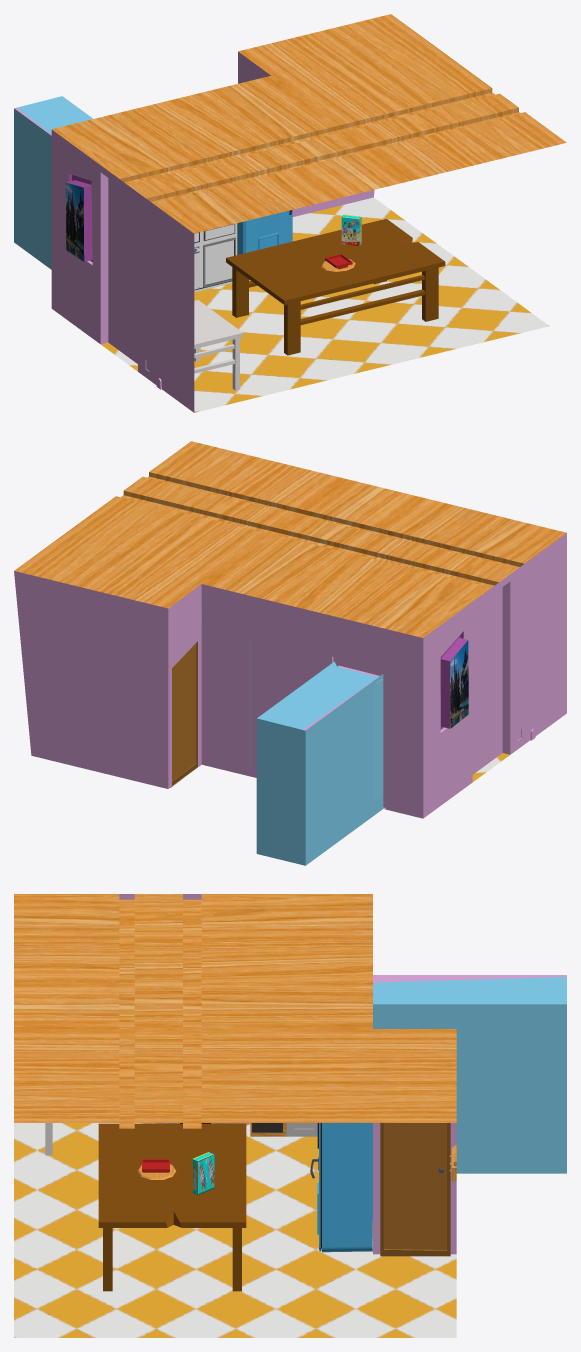
Rendered from Scene from maya.fbx.
3 renders of one model, top to bottom at view 1: azimuth 30°, elevation 25°; view 2: azimuth 150°, elevation 25°; view 3: azimuth 270°, elevation 25°, orthographic. The views are drawn at different scales.
Visible parts, largest first — view 1: polySurface8, polySurface7, polySurface22, Table1, polySurface25, Table, Drawer, DownDoor, polySurface23, polySurface20, polySurface3, cereal5 (+1 smaller); view 2: polySurface8, polySurface24, polySurface3, polySurface22, polySurface25, PuertaSuperior1, polySurface6, polySurface23, polySurface20, Puerta_De_En_Medio; view 3: polySurface8, polySurface7, polySurface25, Table1, PuertaSuperior1, Body, polySurface6, polySurface24, cereal5.
Part boxes in pixels (box(x1,y1,x2,y2)): polySurface8: box(52, 14, 566, 233); polySurface7: box(101, 197, 549, 412); polySurface22: box(51, 130, 194, 412); Table1: box(226, 218, 445, 355); polySurface25: box(14, 96, 92, 269); Table: box(194, 300, 243, 390); Drawer: box(194, 224, 235, 287); DownDoor: box(244, 210, 292, 252); polySurface23: box(65, 182, 84, 261); polySurface20: box(66, 174, 92, 261); polySurface3: box(292, 189, 374, 216); cereal5: box(341, 214, 361, 246); polySurface8: box(14, 441, 566, 637); polySurface24: box(201, 584, 423, 818); polySurface3: box(14, 571, 168, 788); polySurface22: box(423, 533, 566, 818); polySurface25: box(256, 661, 383, 865); PuertaSuperior1: box(170, 641, 197, 787); polySurface6: box(168, 584, 201, 788); polySurface23: box(450, 640, 468, 728); polySurface20: box(440, 631, 467, 729); Puerta_De_En_Medio: box(374, 679, 382, 800); polySurface8: box(14, 894, 456, 1128); polySurface7: box(14, 1123, 456, 1337); polySurface25: box(373, 977, 566, 1173); Table1: box(98, 1123, 246, 1291); PuertaSuperior1: box(380, 1123, 450, 1256); Body: box(322, 1123, 372, 1252); polySurface6: box(373, 1123, 456, 1254); polySurface24: box(373, 975, 566, 982); cereal5: box(192, 1152, 214, 1195).
Size of the model in its own units: 586 by 266 by 588.
